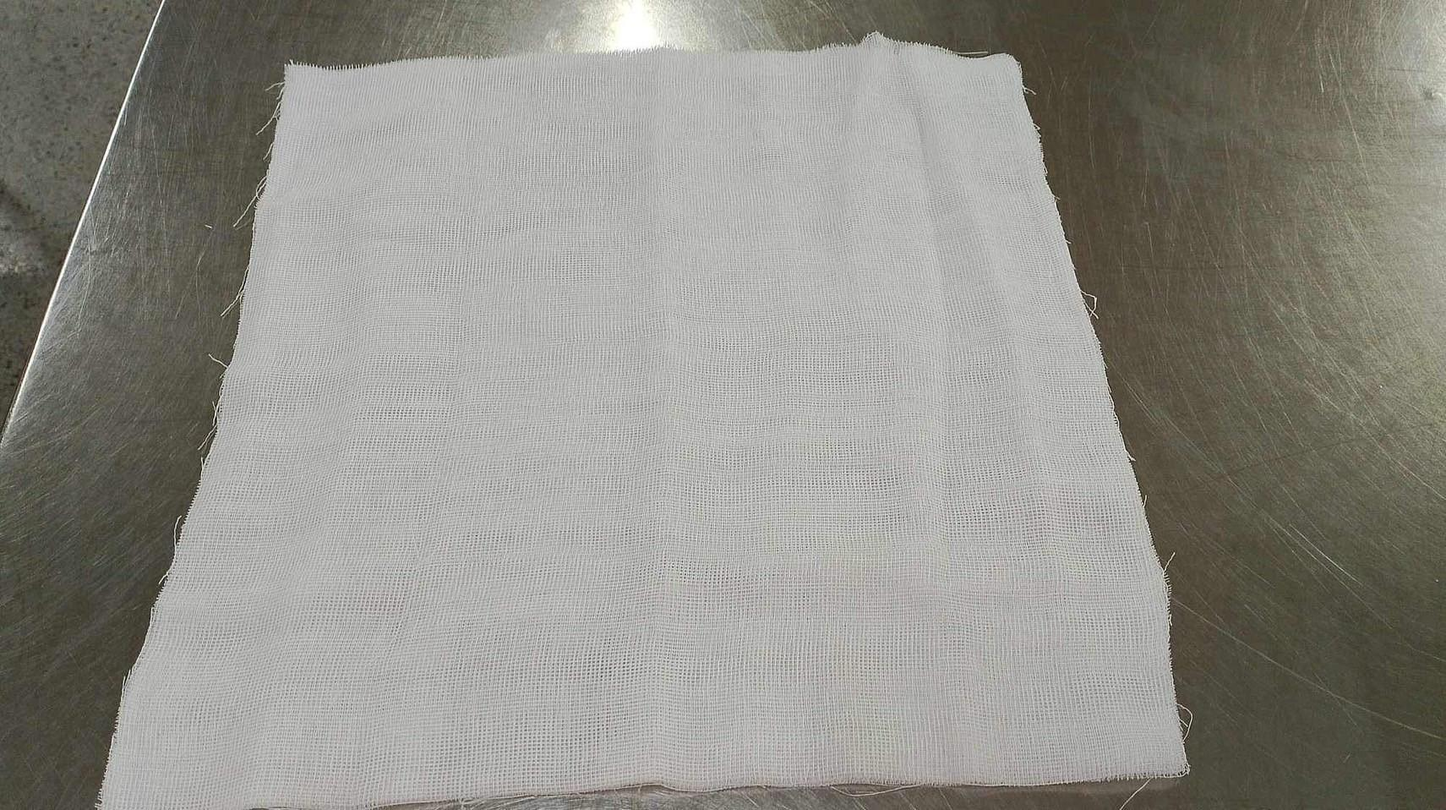General: (91, 31, 1193, 804)
